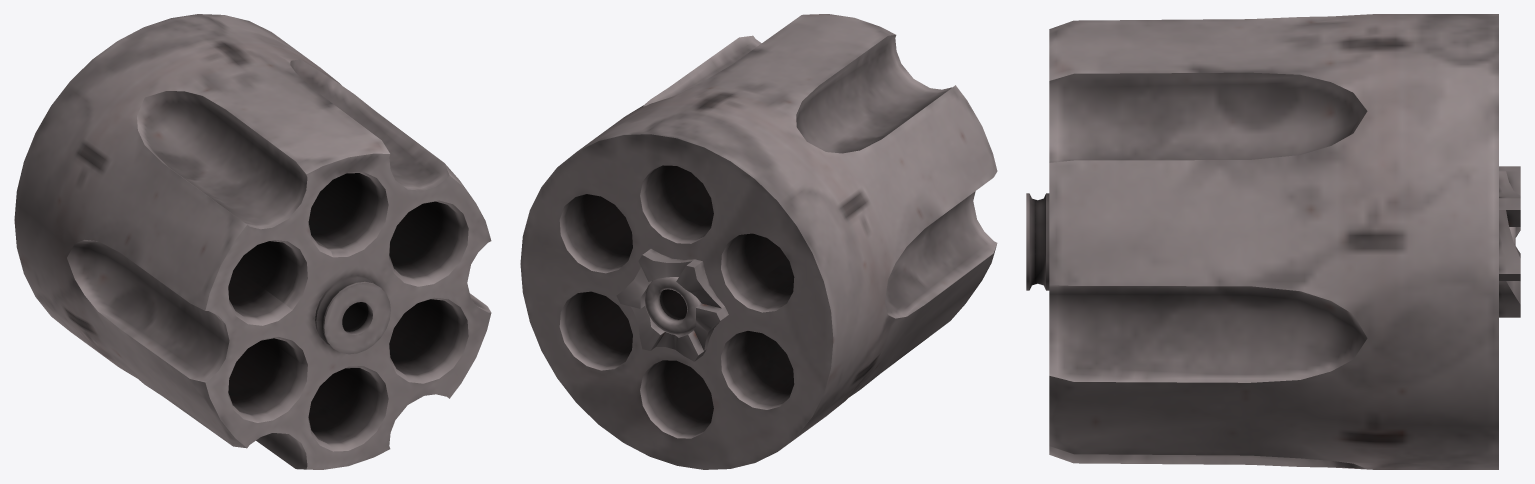
Rendered from SM_Brimstone_01d.fbx.
3 views of the same model, side by side, from view 1: azimuth 30°, elevation 25°; view 2: azimuth 150°, elevation 25°; view 3: azimuth 270°, elevation 25° (orthographic). The views are drawn at different scales.
Visible parts, largest first — view 1: SM_Brimstone_01d_LOD0; view 2: SM_Brimstone_01d_LOD0; view 3: SM_Brimstone_01d_LOD0.
Boxes of the visible parts, bbox=[...] form: SM_Brimstone_01d_LOD0: bbox=[14, 14, 491, 469]; SM_Brimstone_01d_LOD0: bbox=[520, 14, 997, 469]; SM_Brimstone_01d_LOD0: bbox=[1026, 14, 1520, 469].
Bounding box in the file's own units: 4.58 × 4.95 × 4.58.
